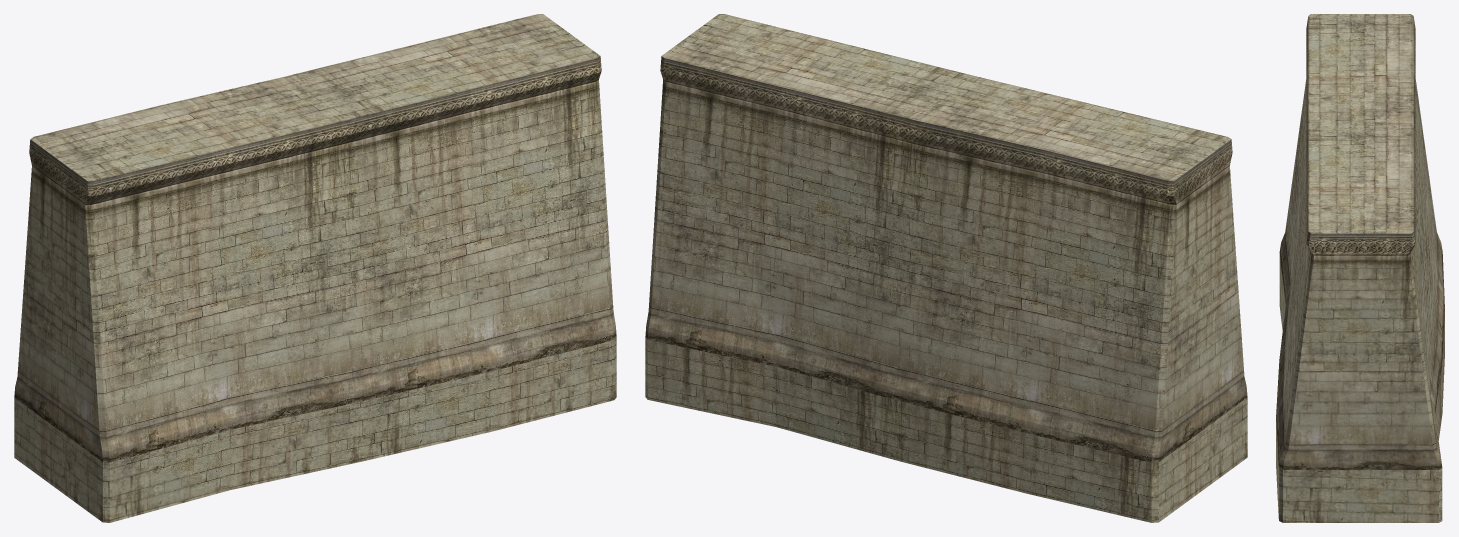
The model's file is TW2_5_TOWNWALL_01_01-transformed.glb.
3 views of the same model, side by side, from view 1: azimuth 30°, elevation 25°; view 2: azimuth 150°, elevation 25°; view 3: azimuth 270°, elevation 25° (orthographic). The views are drawn at different scales.
Parts seen in each view (by area): view 1: default; view 2: default; view 3: default.
Boxes of the visible parts, x1,y1,x2,y2 form: default: (14,14,616,522); default: (645,14,1247,522); default: (1276,14,1444,522).
Size of the model in its own units: 30 by 18.46 by 9.73.
1 material, 1 textured.
